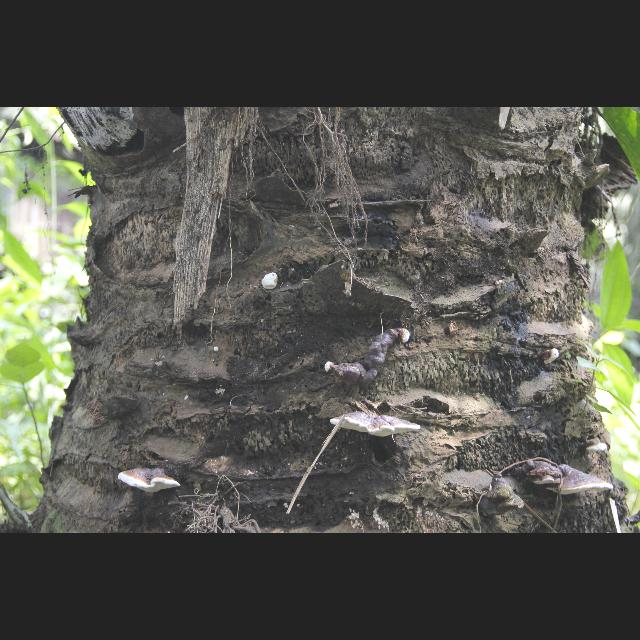ganoderma: (335, 329, 399, 391), (330, 411, 422, 439), (545, 465, 615, 497), (118, 468, 182, 495), (515, 462, 564, 486), (579, 440, 610, 455)
primordium: (540, 350, 561, 367), (263, 273, 280, 291), (399, 329, 411, 346), (324, 362, 335, 376), (213, 346, 221, 354)
